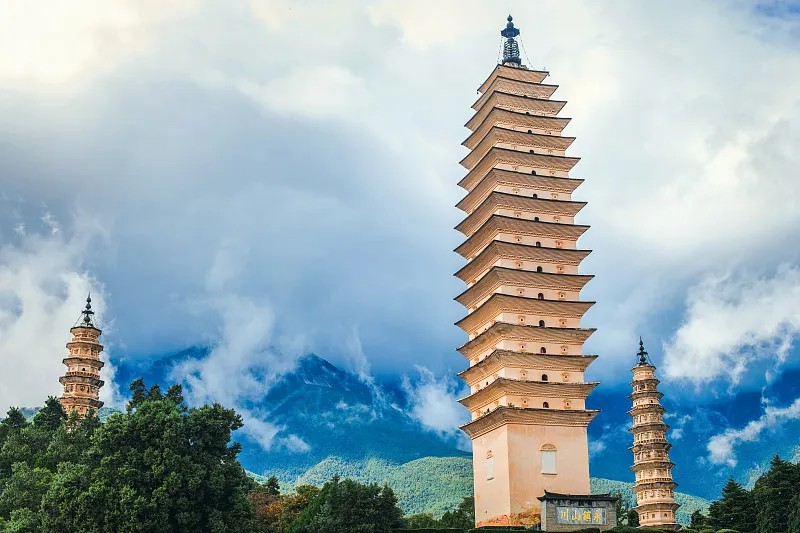ThreePagoda: (453, 15, 602, 527)
